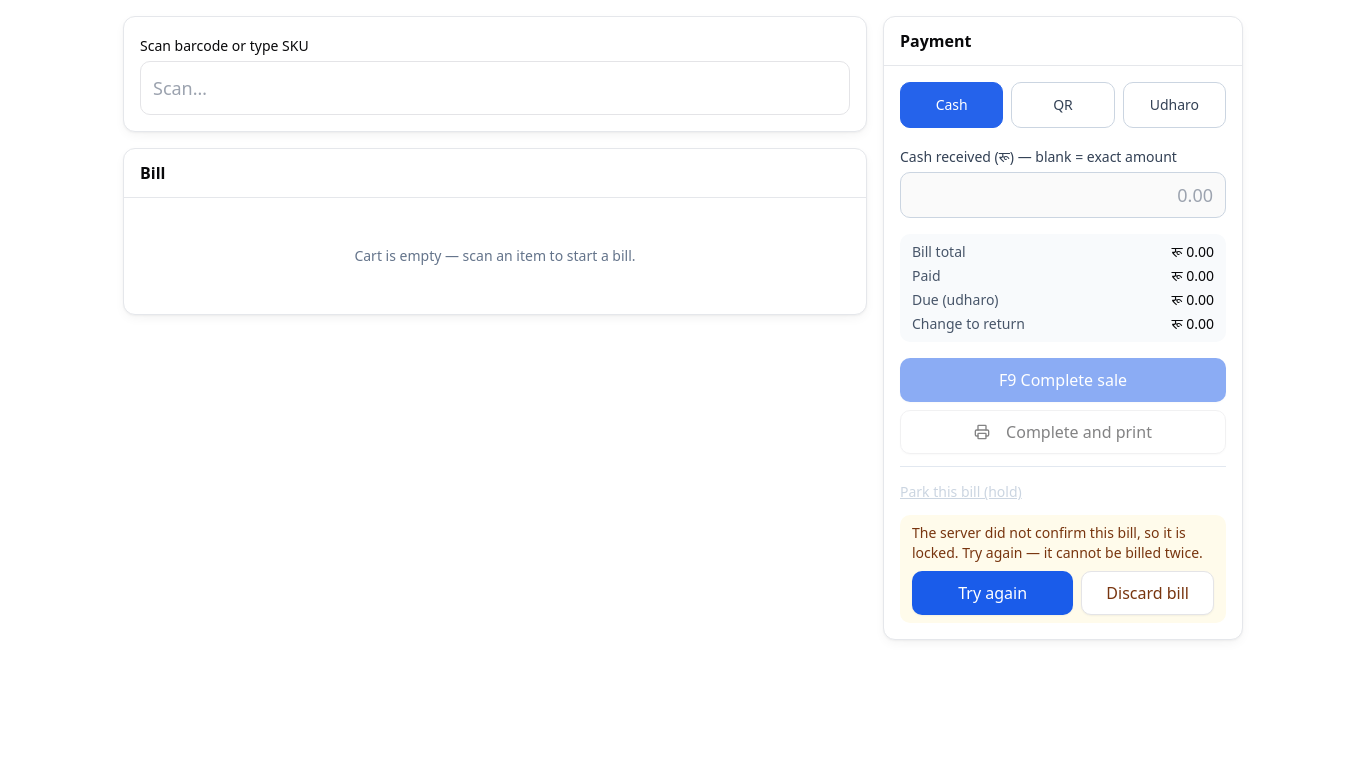
Test case: BillingPage counter payment › still shows the change after a reload and a retry
Click the button "Try again".
click(993, 593)  # box [912,571,1073,615]
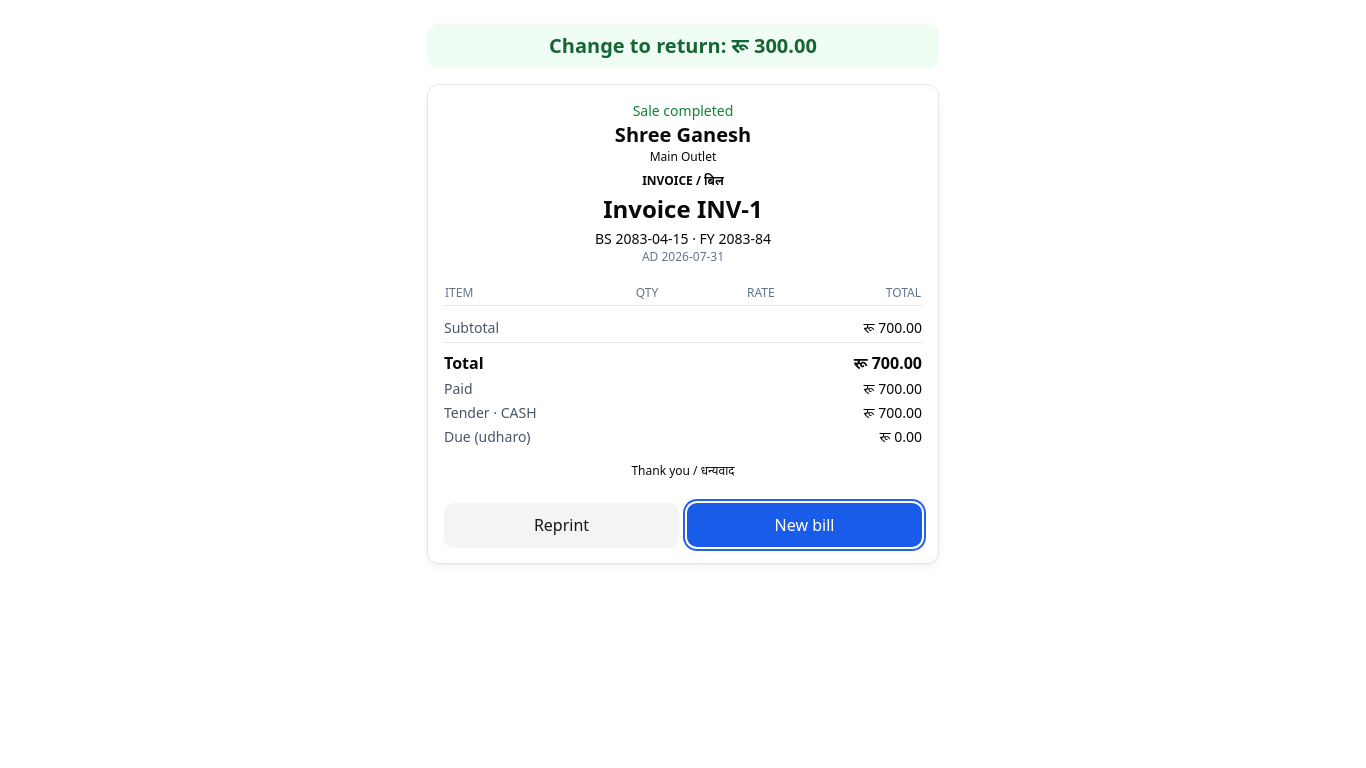
Result: the heading "Invoice INV-1" is shown at [603,192,763,225]
Result: the text "Change to return: रू 300.00" is shown at [427,24,939,68]
